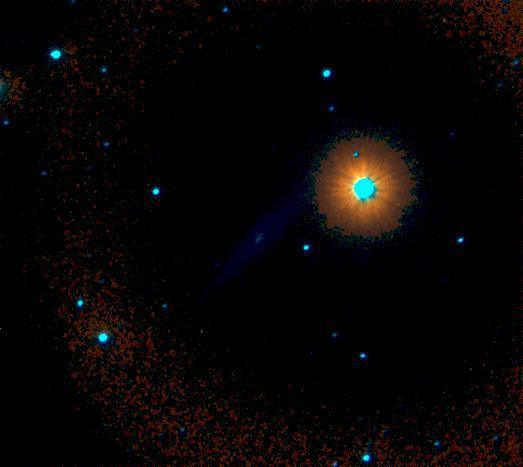star: (384, 190, 414, 220)
